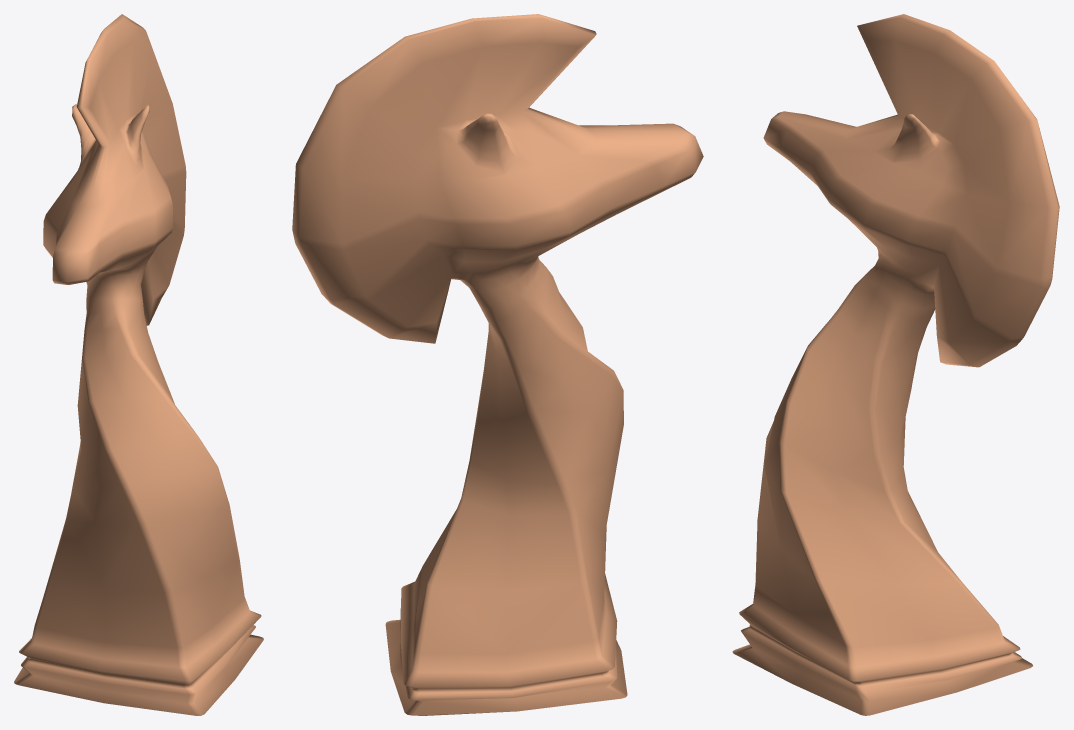
File: Caballo.fbx
The picture shows the model from 3 angles, left to right: view 1: azimuth 30°, elevation 25°; view 2: azimuth 150°, elevation 25°; view 3: azimuth 270°, elevation 25°; orthographic projection. The views are drawn at different scales.
Visible parts, largest first — view 1: Caballo.003; view 2: Caballo.003; view 3: Caballo.003.
Boxes of the visible parts, box(x1,y1,x2,y2) form: Caballo.003: box(14, 14, 263, 715); Caballo.003: box(292, 14, 703, 715); Caballo.003: box(732, 14, 1059, 715).
Bounding box in the file's own units: 93.64 × 223 × 105.
